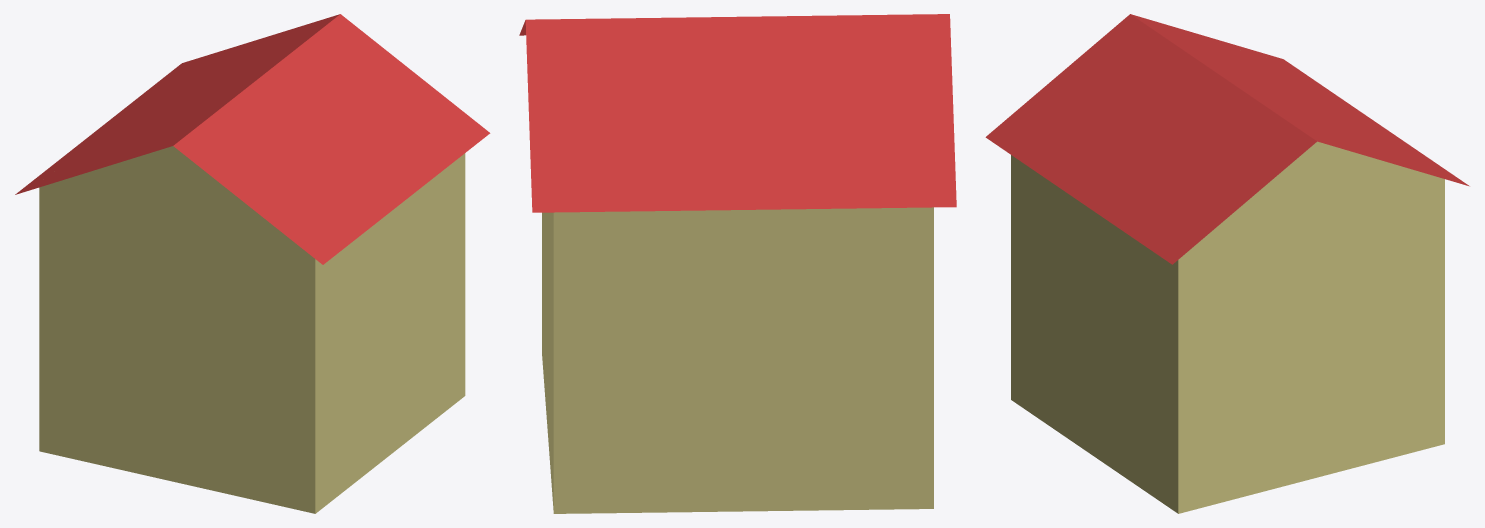
The picture shows the model from 3 angles, left to right: view 1: azimuth 30°, elevation 25°; view 2: azimuth 150°, elevation 25°; view 3: azimuth 270°, elevation 25°; orthographic projection. The views are drawn at different scales.
Size of the model in its own units: 13.15 by 13.11 by 10.29.
